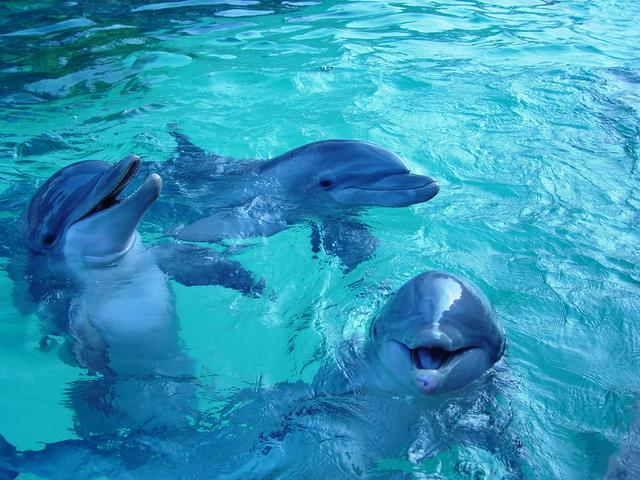dolphin: (25, 123, 192, 406), (222, 122, 449, 259)
